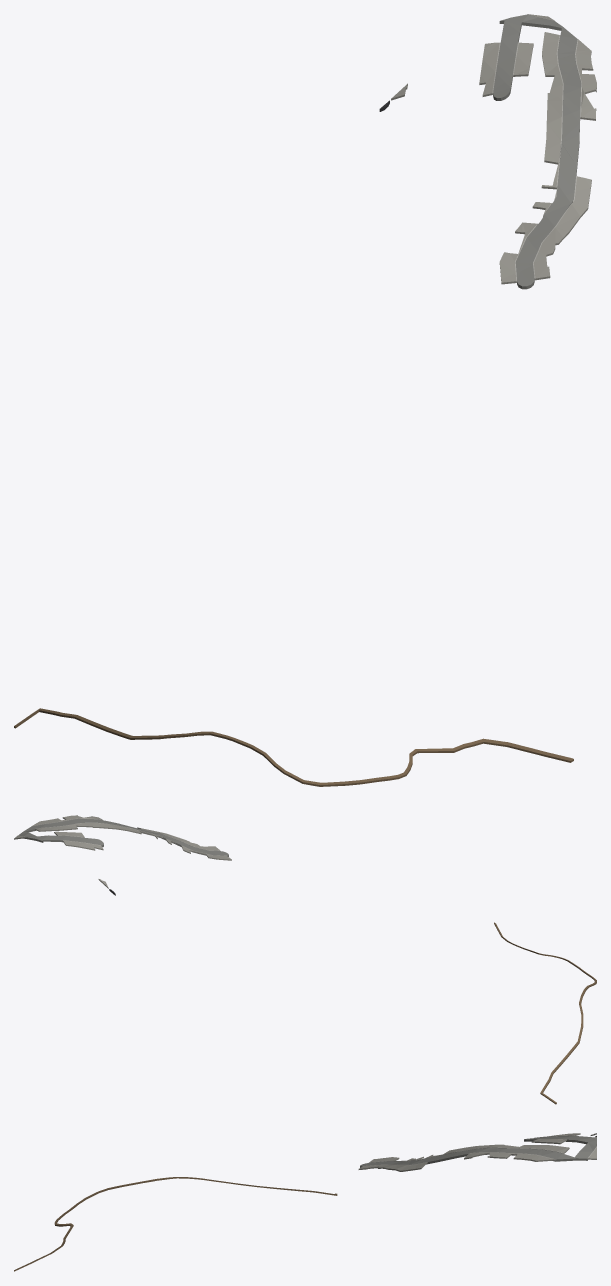
3 renders of one model, top to bottom at view 1: azimuth 30°, elevation 25°; view 2: azimuth 150°, elevation 25°; view 3: azimuth 270°, elevation 25°, orthographic. The views are drawn at different scales.
Size of the model in its own units: 293 by 160 by 292.
